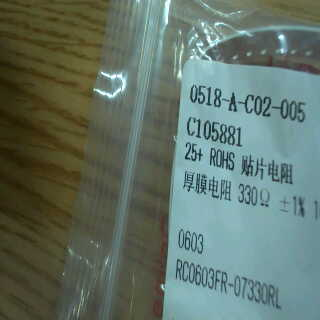330R: (235, 179, 274, 213)
